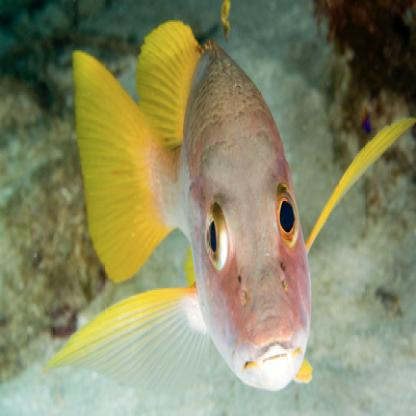snapper: (39, 17, 416, 405)
